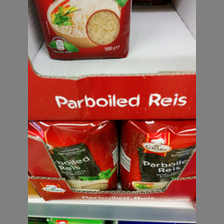rice: (29, 121, 119, 191), (34, 1, 132, 60), (120, 120, 197, 192)
